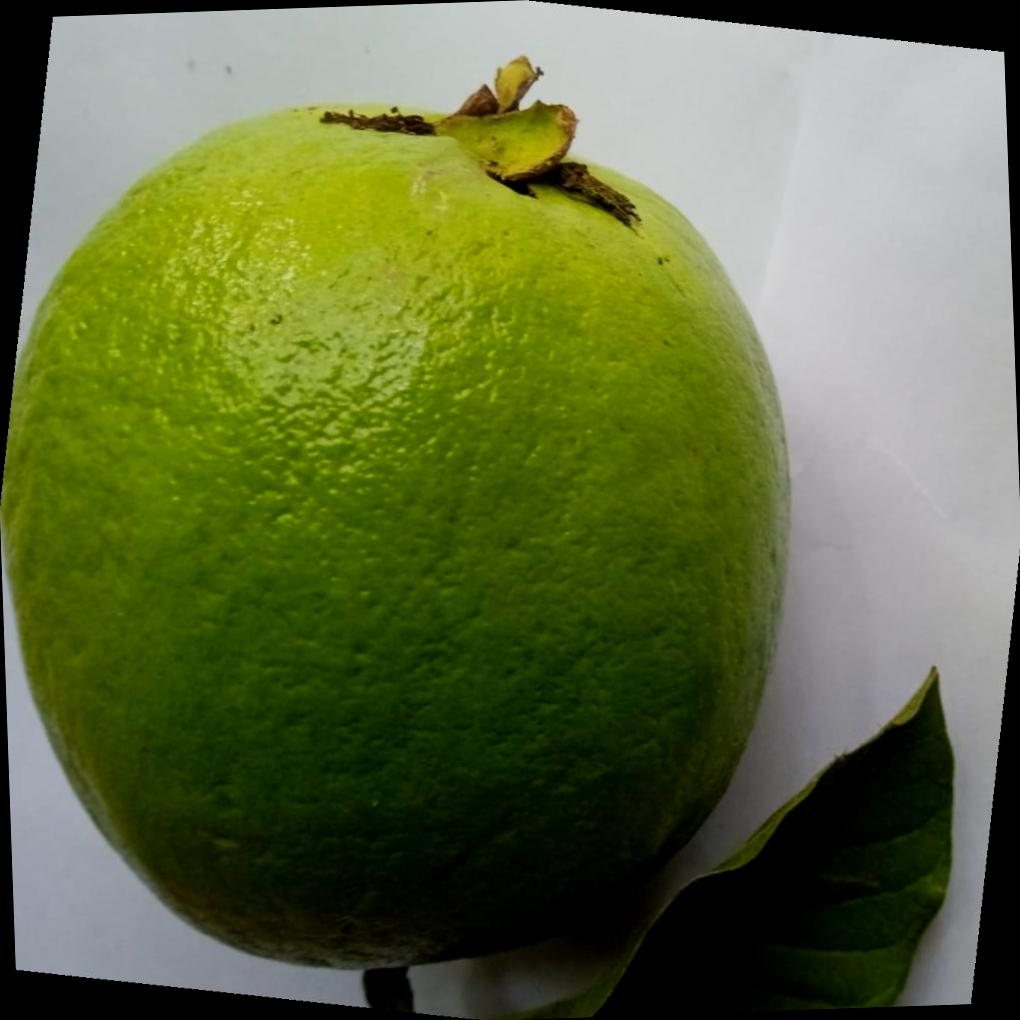FreshGuava: (2, 60, 796, 975)
